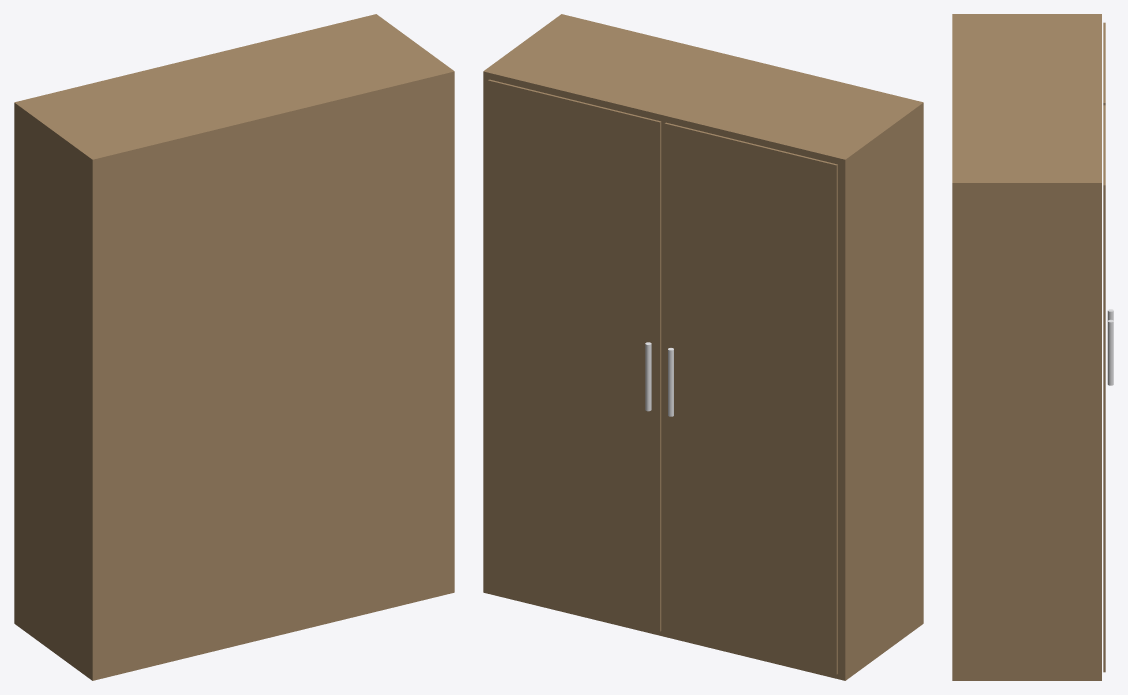
File: wardrobe.glb
The picture shows the model from 3 angles, left to right: view 1: azimuth 30°, elevation 25°; view 2: azimuth 150°, elevation 25°; view 3: azimuth 270°, elevation 25°; orthographic projection. The views are drawn at different scales.
Visible parts, largest first — view 1: Cabinet; view 2: DoorPanel_R, DoorPanel_L, Cabinet; view 3: Cabinet, DoorPanel_R, Handle_R.
Boxes of the visible parts, x1,y1,x2,y2 form: Cabinet: (14,14,454,680); DoorPanel_R: (488,79,661,631); DoorPanel_L: (664,122,837,674); Cabinet: (483,14,923,680); Cabinet: (952,14,1101,680); DoorPanel_R: (1103,105,1105,672); Handle_R: (1107,319,1113,385).
Size of the model in its own units: 1.6 by 2.2 by 0.647.
